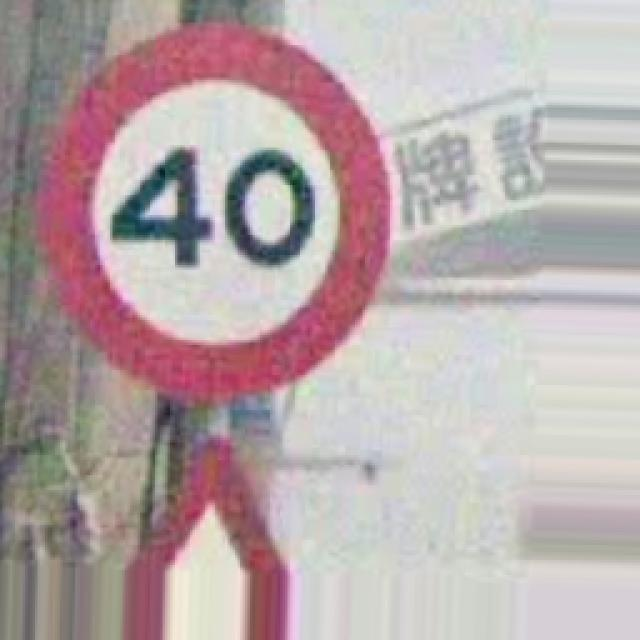Speed Limit -40-: (42, 25, 388, 402)
